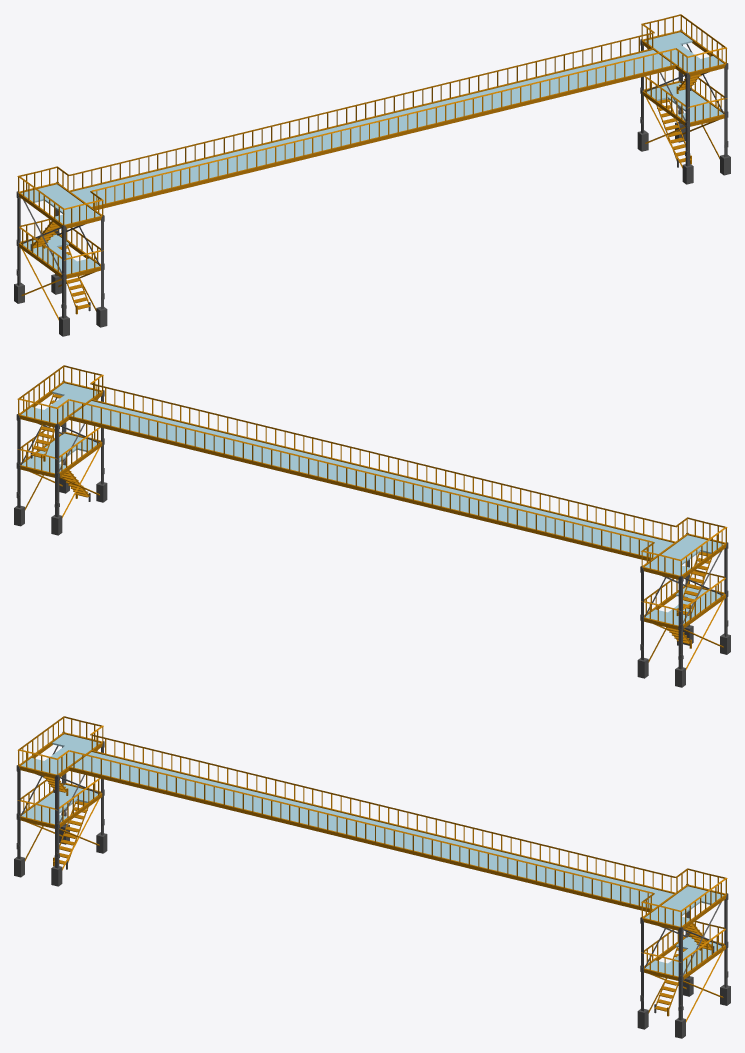
The model's file is Overpass.fbx.
The picture shows the model from 3 angles, top to bottom: view 1: azimuth 30°, elevation 25°; view 2: azimuth 150°, elevation 25°; view 3: azimuth 330°, elevation 25°; orthographic projection.
Visible parts, largest first — view 1: Overpass; view 2: Overpass; view 3: Overpass.
Boxes of the visible parts, <box> form: Overpass: <box>14,14,730,336</box>; Overpass: <box>14,365,730,687</box>; Overpass: <box>14,716,730,1038</box>.
Bounding box in the file's own units: 596 × 107 × 75.57.
